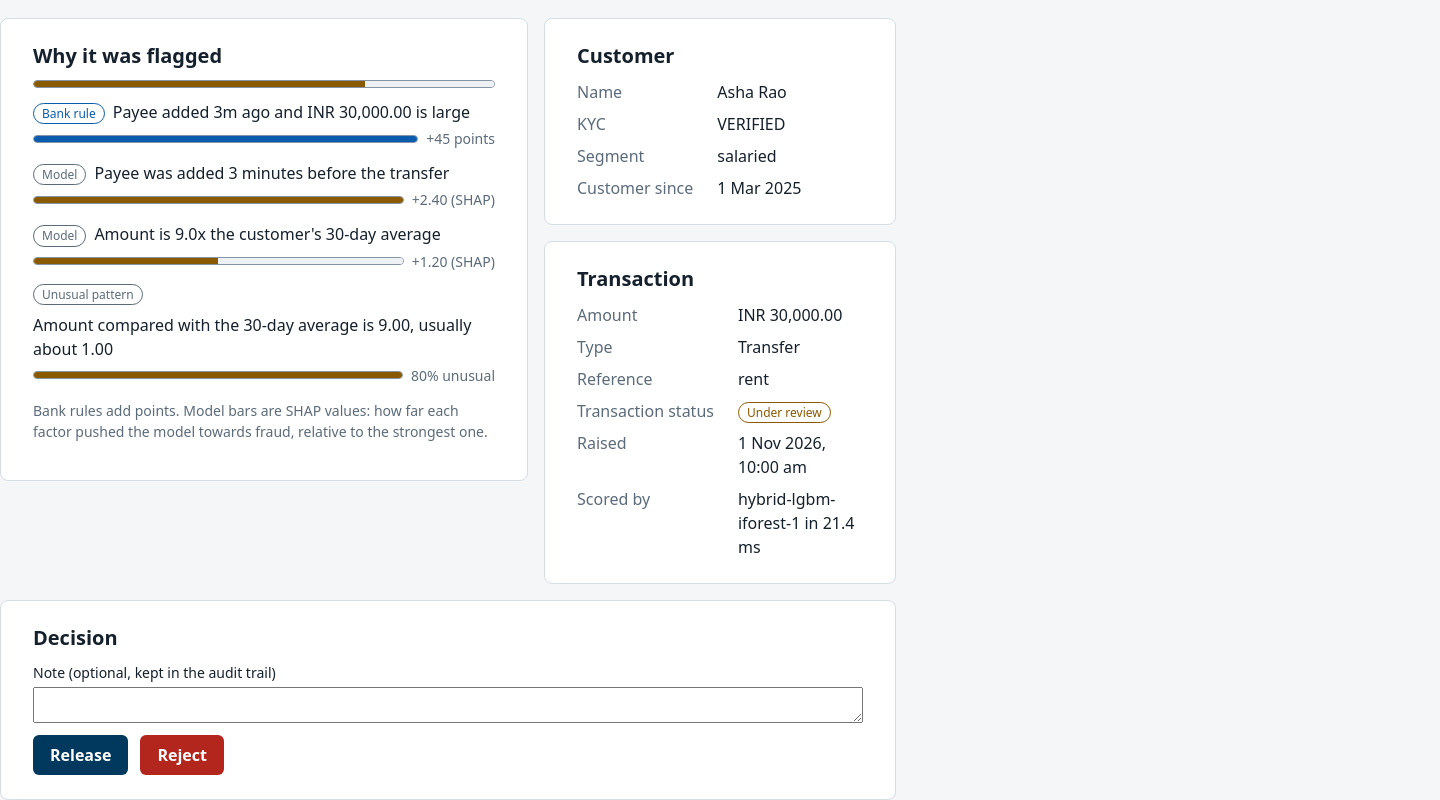
FraudAlert › keeps the dialog open with the server's error when the decision fails
(page scrolled)
Click the button "Release": [81, 755] box [33,735,128,775]
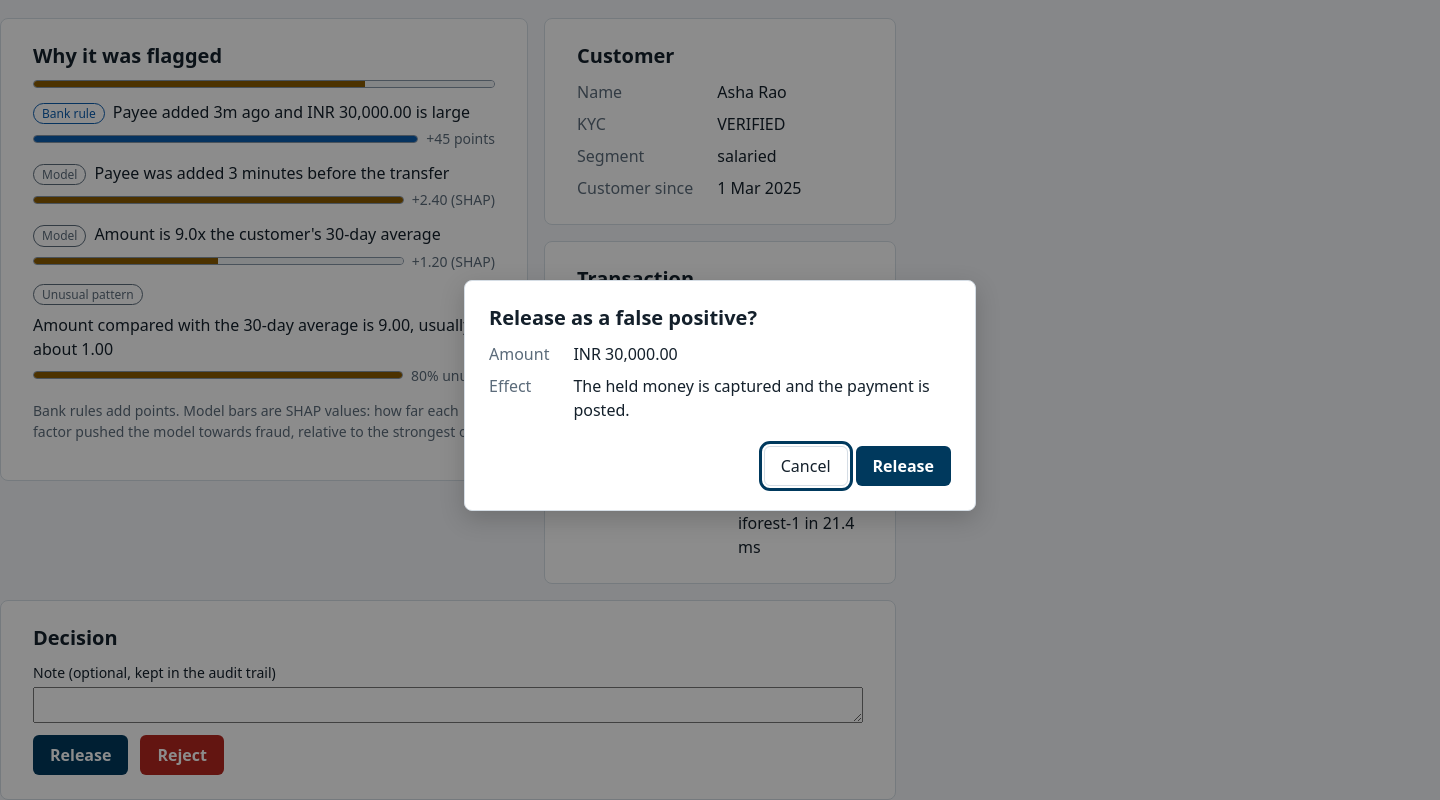
Click the button "Release": [903, 466] box [856,446,951,486]
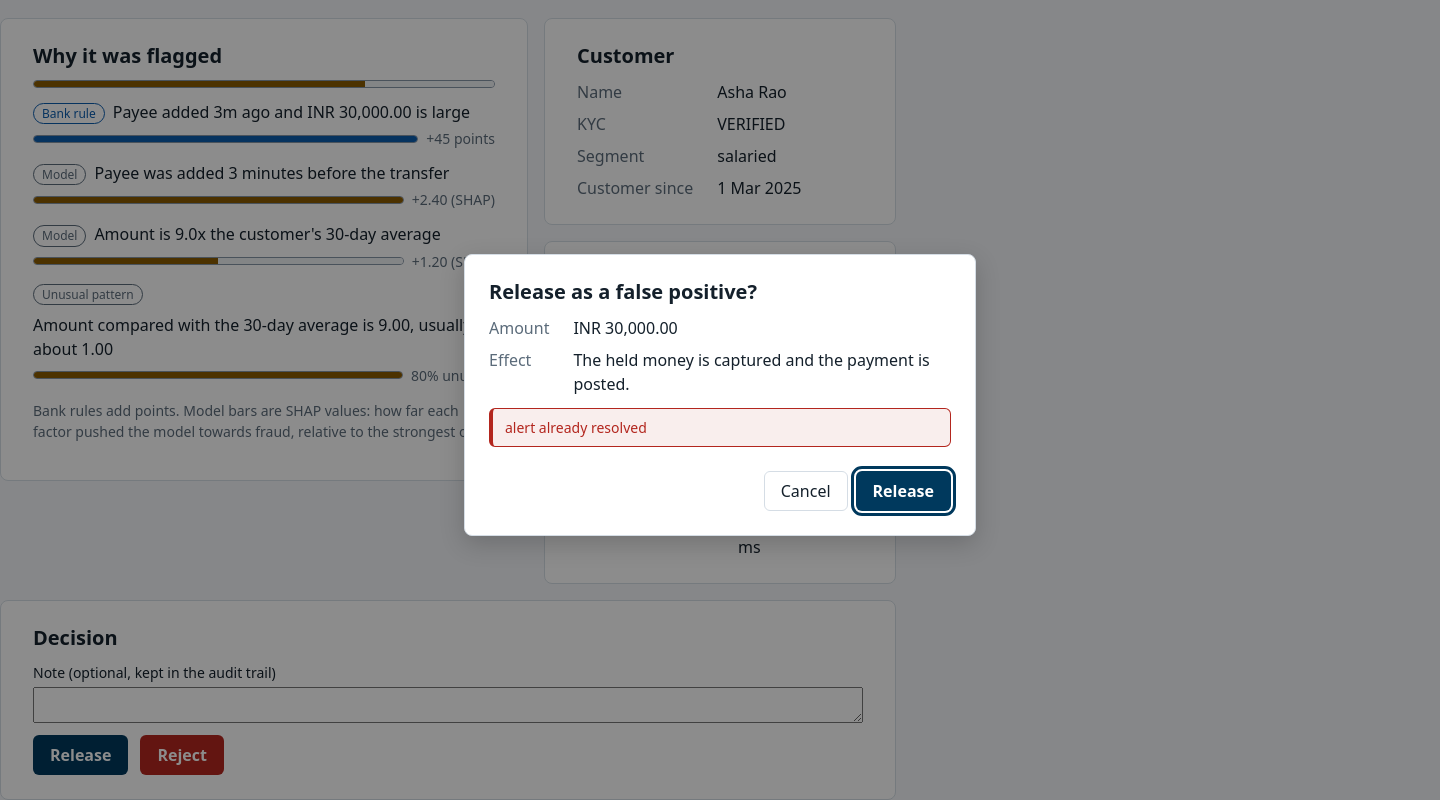
Check: the text "alert already resolved" is shown, box [489,408,951,447]
